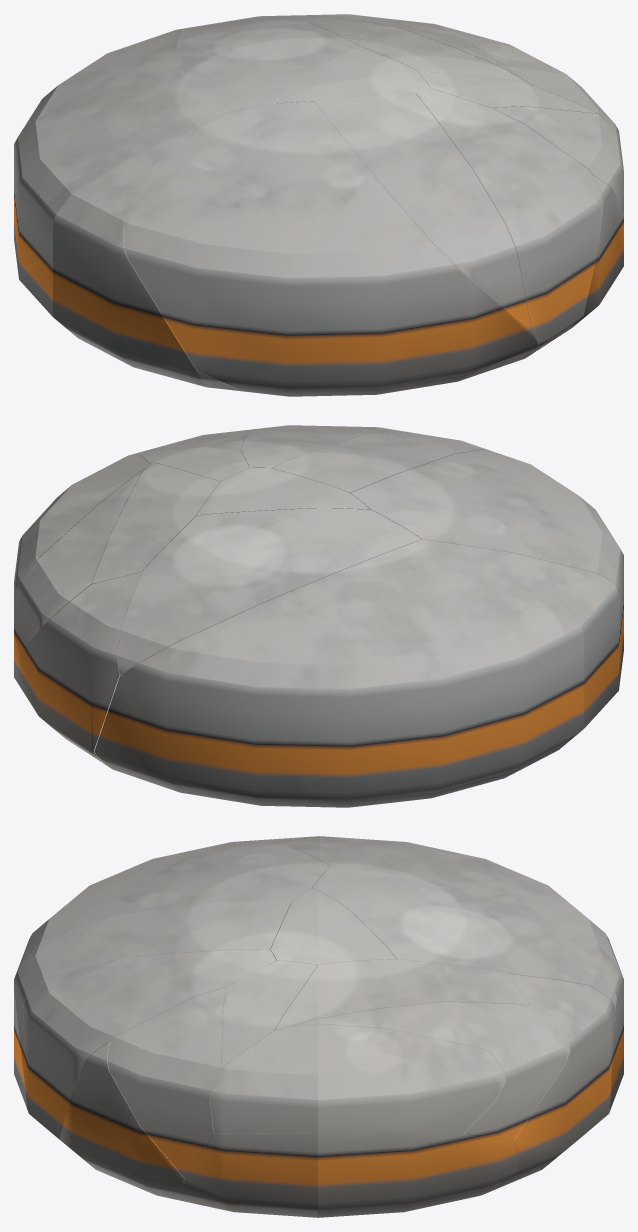
Rendered from Broke_BasePod_EXP_2.fbx.
The picture shows the model from 3 angles, top to bottom: view 1: azimuth 30°, elevation 25°; view 2: azimuth 150°, elevation 25°; view 3: azimuth 270°, elevation 25°; orthographic projection.
Visible parts, largest first — view 1: Pod_EXP_11, Pod_EXP_5, Pod_EXP_13, Pod_EXP_16, Pod_EXP_14, Pod_EXP_10, Pod_EXP_15, Pod_EXP_18, Pod_EXP_17, Pod_EXP_12, Pod_EXP_19, Pod_EXP_9; view 2: Pod_EXP_5, Pod_EXP_14, Pod_EXP_11, Pod_EXP_7, Pod_EXP_15, Pod_EXP_9, Pod_EXP_16, Pod_EXP_18, Pod_EXP_12, Pod_EXP_13, Pod_EXP_17, Pod_EXP_10; view 3: Pod_EXP_12, Pod_EXP_6, Pod_EXP_13, Pod_EXP_14, Pod_EXP_11, Pod_EXP_10, Pod_EXP_5, Pod_EXP_9, Pod_EXP_16, Pod_EXP_7, Pod_EXP_15, Pod_EXP_19 (+2 smaller).
Boxes of the visible parts, x1,y1,x2,y2 form: Pod_EXP_11: (123, 101, 537, 396); Pod_EXP_5: (14, 28, 242, 391); Pod_EXP_13: (415, 88, 603, 350); Pod_EXP_16: (315, 93, 530, 328); Pod_EXP_14: (177, 18, 362, 118); Pod_EXP_10: (491, 106, 623, 212); Pod_EXP_15: (307, 17, 532, 85); Pod_EXP_18: (274, 47, 429, 103); Pod_EXP_17: (418, 71, 597, 113); Pod_EXP_12: (430, 23, 619, 136); Pod_EXP_19: (555, 175, 623, 338); Pod_EXP_9: (328, 14, 518, 76); Pod_EXP_5: (94, 539, 623, 807); Pod_EXP_14: (118, 508, 421, 675); Pod_EXP_11: (350, 449, 623, 643); Pod_EXP_7: (19, 571, 141, 762); Pod_EXP_15: (91, 463, 220, 583); Pod_EXP_9: (14, 469, 144, 654); Pod_EXP_16: (272, 432, 484, 492); Pod_EXP_18: (196, 468, 370, 515); Pod_EXP_12: (14, 453, 149, 595); Pod_EXP_13: (241, 425, 408, 468); Pod_EXP_17: (137, 446, 249, 481); Pod_EXP_10: (138, 429, 255, 452); Pod_EXP_12: (210, 1024, 505, 1134); Pod_EXP_6: (181, 1133, 518, 1217); Pod_EXP_13: (23, 949, 276, 1151); Pod_EXP_14: (312, 866, 616, 1013); Pod_EXP_11: (14, 841, 330, 1140); Pod_EXP_10: (107, 987, 225, 1178); Pod_EXP_5: (239, 836, 623, 1140); Pod_EXP_9: (293, 1001, 569, 1140); Pod_EXP_16: (14, 901, 291, 1089); Pod_EXP_7: (485, 973, 614, 1193); Pod_EXP_15: (274, 959, 530, 1030); Pod_EXP_19: (59, 1041, 196, 1203).
Size of the model in its own units: 28.78 by 10.13 by 28.78.
